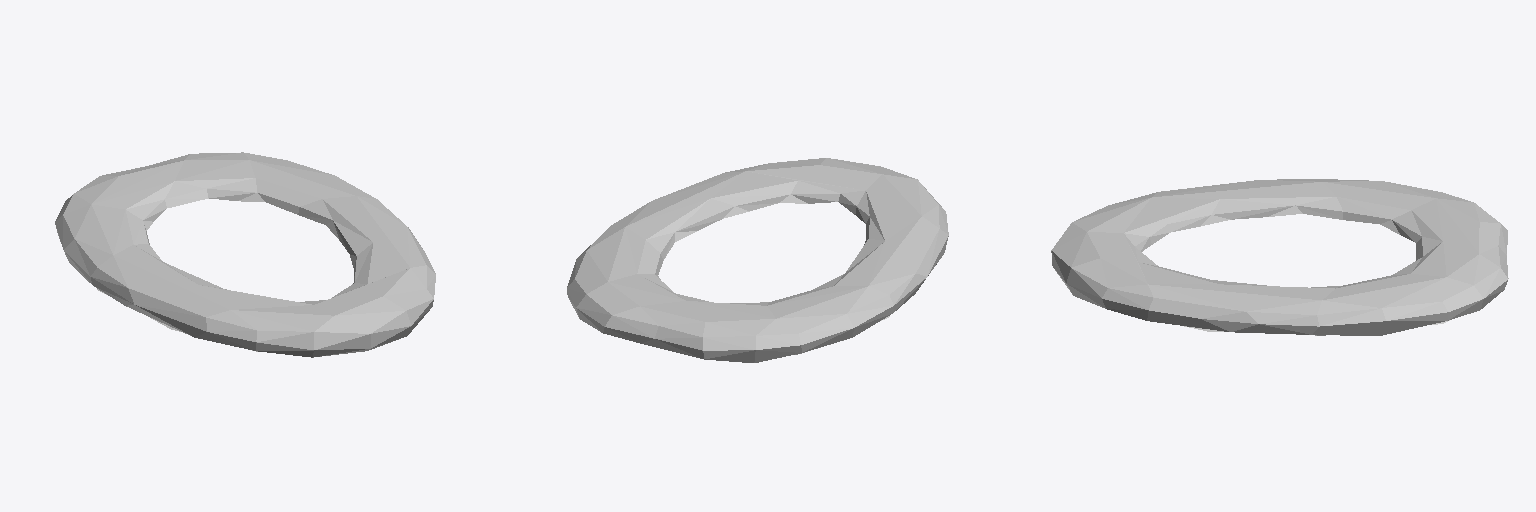
The model's file is toliet3.obj.
3 views of the same model, side by side, from view 1: azimuth 30°, elevation 25°; view 2: azimuth 150°, elevation 25°; view 3: azimuth 270°, elevation 25° (orthographic).
Bounding box in the file's own units: 0.4239 × 0.0451 × 0.5752.